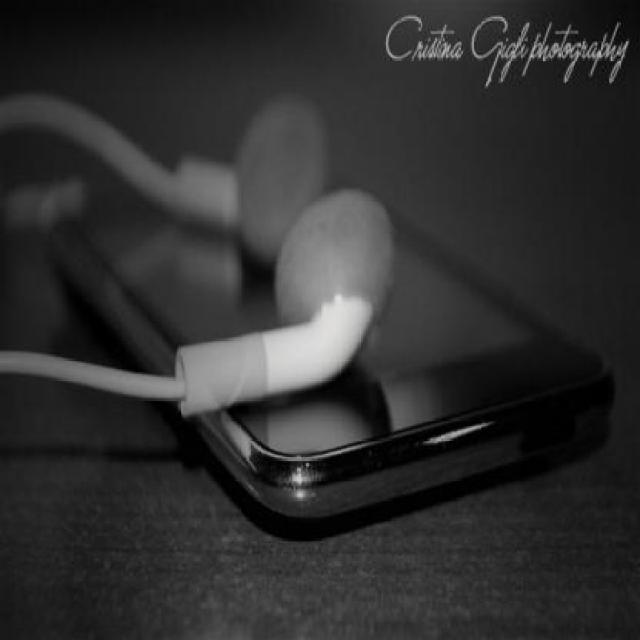phone: (99, 263, 621, 525)
